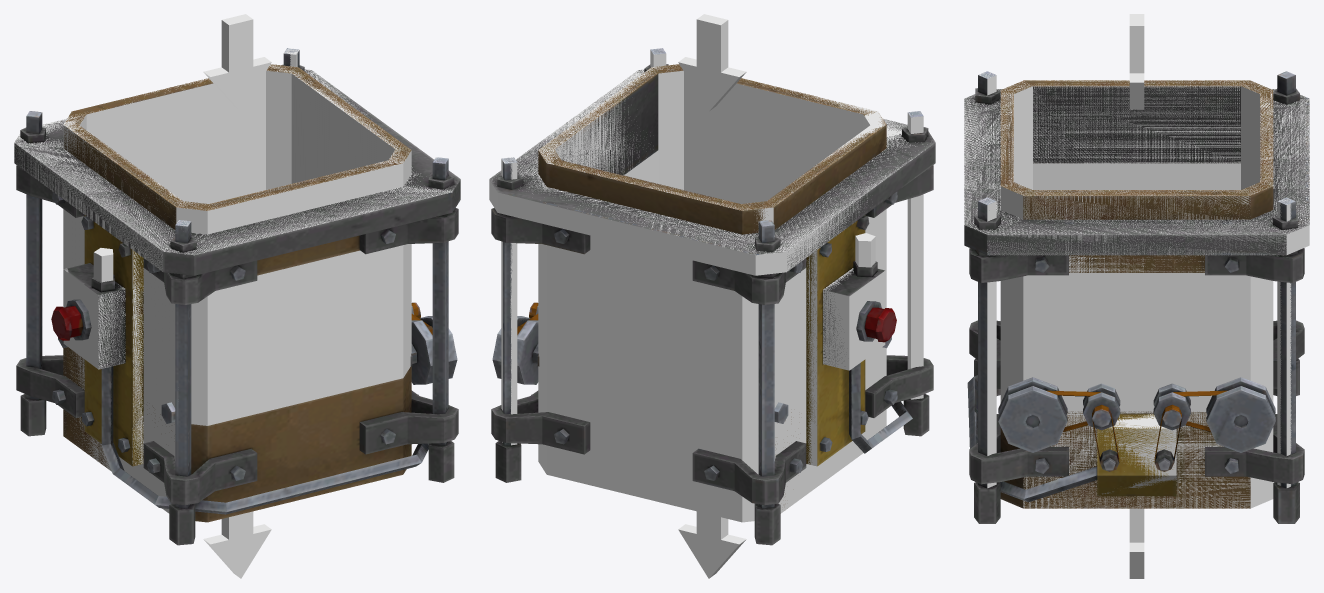
Rendered from Chute_Hatch.glb.
3 views of the same model, side by side, from view 1: azimuth 30°, elevation 25°; view 2: azimuth 150°, elevation 25°; view 3: azimuth 270°, elevation 25° (orthographic).
Visible parts, largest first — view 1: Chute_Hatch, Chute_Hatch_Col, ghostarrow, ghostarrow (1), Chute_Hatch_Button; view 2: Chute_Hatch_Col, Chute_Hatch, ghostarrow, ghostarrow (1), Chute_Hatch_Button; view 3: Chute_Hatch, Chute_Hatch_Col, ghostarrow, ghostarrow (1).
Part boxes in pixels (x1,y1,x2,y2): Chute_Hatch: (14,48,460,545); Chute_Hatch_Col: (14,48,452,513); ghostarrow: (203,14,271,111); ghostarrow (1): (203,511,271,578); Chute_Hatch_Button: (51,306,83,340); Chute_Hatch_Col: (489,48,927,522); Chute_Hatch: (489,48,935,545); ghostarrow: (678,14,746,111); ghostarrow (1): (678,511,746,578); Chute_Hatch_Button: (864,307,896,342); Chute_Hatch: (964,71,1309,523); Chute_Hatch_Col: (964,72,1309,508); ghostarrow: (1129,14,1144,109); ghostarrow (1): (1129,508,1144,578).
Size of what is drawn, in the model's own units: 1.16 by 1.79 by 1.
Materials: 7 (2 with a texture image).
